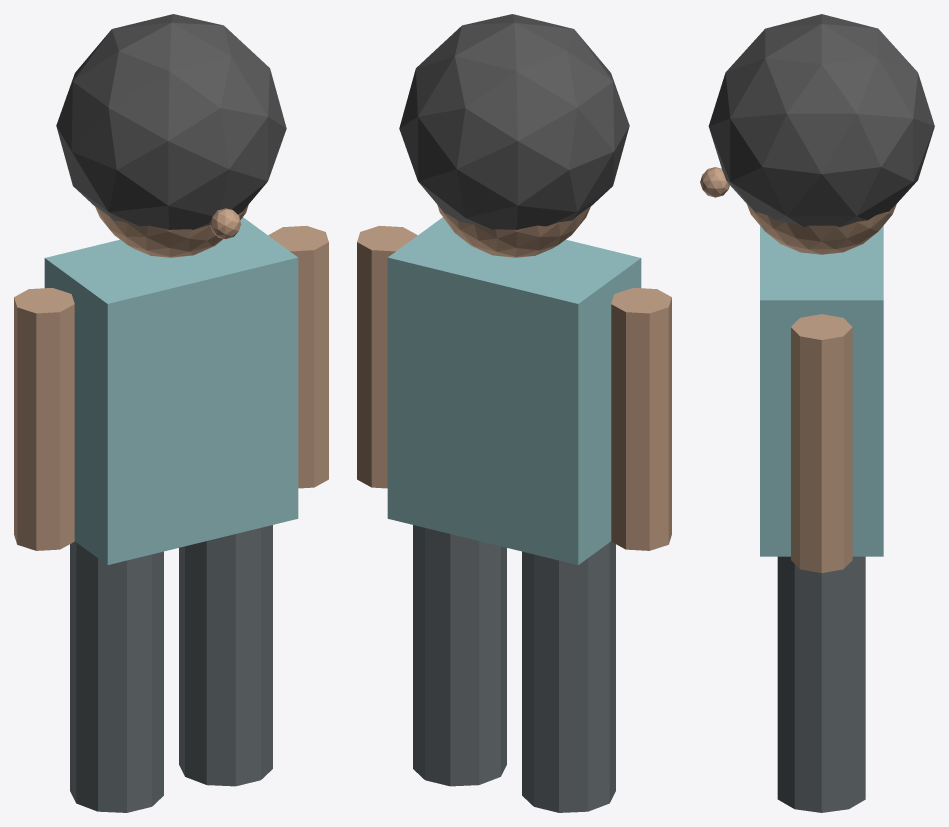
The model's file is sim_adult_athletic.glb.
The picture shows the model from 3 angles, left to right: view 1: azimuth 30°, elevation 25°; view 2: azimuth 150°, elevation 25°; view 3: azimuth 270°, elevation 25°; orthographic projection.
Visible parts, largest first — view 1: p002, p006, p000, p001, p003, p004, p005, p007; view 2: p002, p006, p000, p001, p003, p004, p005; view 3: p006, p002, p001, p004, p005, p007.
Boxes of the visible parts, bbox=[...] form: p002: bbox=[44, 217, 298, 564]; p006: bbox=[56, 14, 286, 229]; p000: bbox=[70, 541, 163, 812]; p001: bbox=[179, 525, 272, 786]; p003: bbox=[14, 288, 74, 550]; p004: bbox=[268, 225, 328, 488]; p005: bbox=[95, 205, 248, 257]; p007: bbox=[210, 208, 241, 239]; p002: bbox=[387, 217, 641, 564]; p006: bbox=[399, 14, 629, 229]; p000: bbox=[522, 541, 615, 812]; p001: bbox=[413, 525, 506, 786]; p003: bbox=[611, 288, 671, 550]; p004: bbox=[357, 225, 417, 488]; p005: bbox=[437, 205, 590, 257]; p006: bbox=[708, 14, 934, 227]; p002: bbox=[760, 226, 883, 556]; p001: bbox=[777, 556, 865, 812]; p004: bbox=[791, 314, 852, 572]; p005: bbox=[747, 204, 896, 254]; p007: bbox=[700, 167, 729, 197].
Size of the model in its own units: 0.714 by 1.67 by 0.4795.
